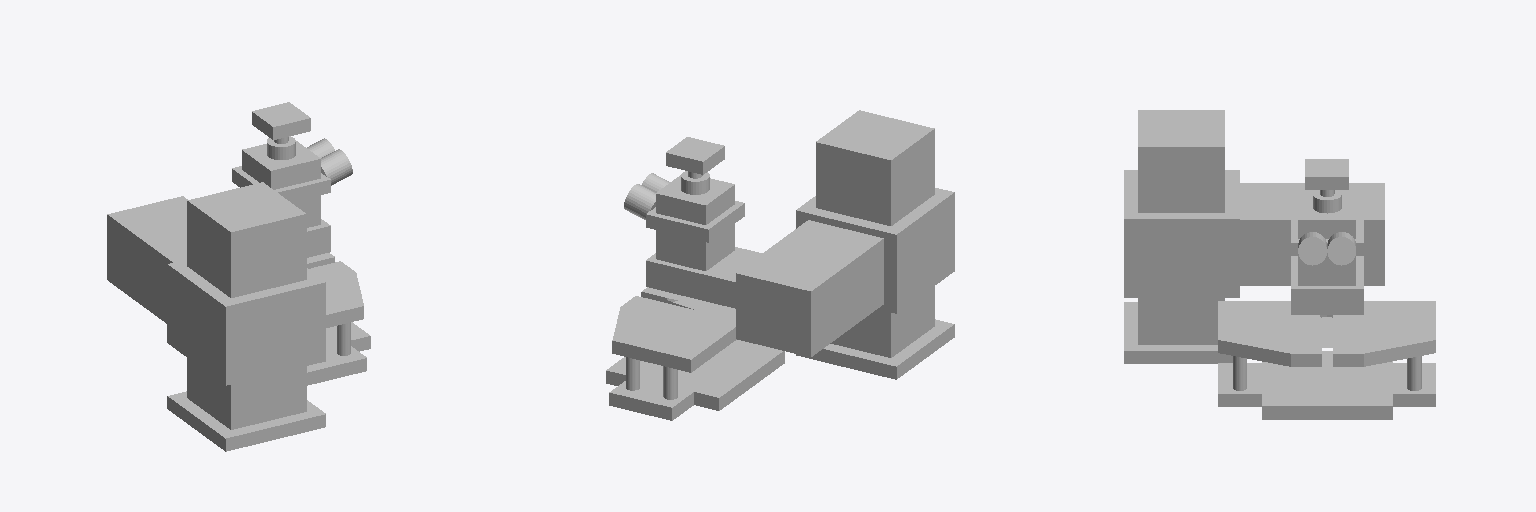
Rendered from Microscope — kopia.obj.
3 views of the same model, side by side, from view 1: azimuth 30°, elevation 25°; view 2: azimuth 150°, elevation 25°; view 3: azimuth 270°, elevation 25° (orthographic).
Visible parts, largest first — view 1: Scope, Base; view 2: Scope, Base; view 3: Base, Scope.
Boxes of the visible parts, x1=… form: Scope: x1=107, y1=102, x2=352, y2=385; Base: x1=167, y1=182, x2=370, y2=451; Scope: x1=624, y1=137, x2=954, y2=356; Base: x1=606, y1=110, x2=954, y2=420; Base: x1=1124, y1=110, x2=1435, y2=419; Scope: x1=1124, y1=159, x2=1384, y2=314.
Size of the model in its own units: 34.45 by 34 by 43.